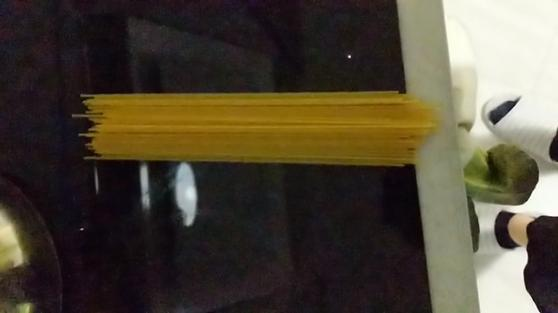spaghetti: (62, 73, 449, 181)
